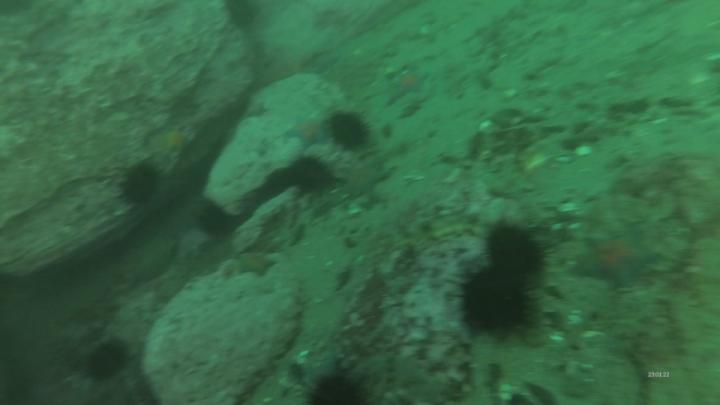echinus: (468, 276, 528, 336), (487, 227, 541, 275), (122, 165, 163, 205), (87, 345, 129, 384), (330, 112, 367, 149), (312, 379, 360, 405), (290, 161, 327, 191), (203, 208, 229, 236)
starfish: (579, 232, 658, 289), (287, 119, 325, 149), (393, 67, 429, 94), (239, 254, 274, 277), (163, 131, 191, 155)
